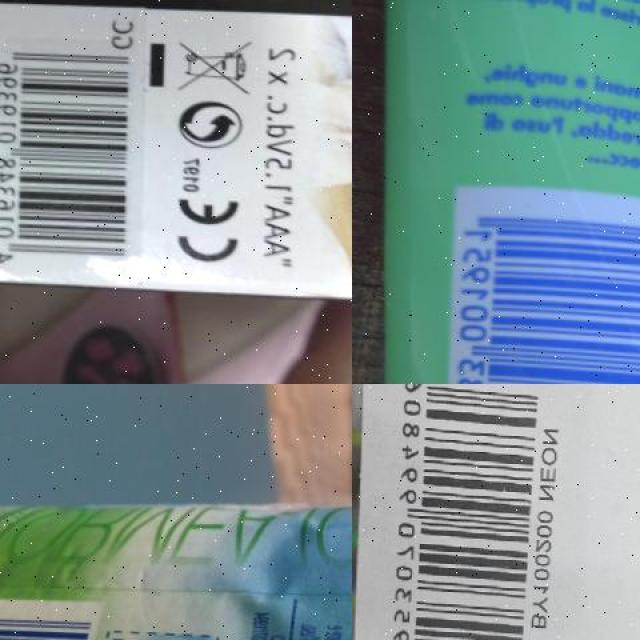Barcode: (438, 177, 640, 383), (0, 3, 147, 276), (392, 384, 547, 640)
